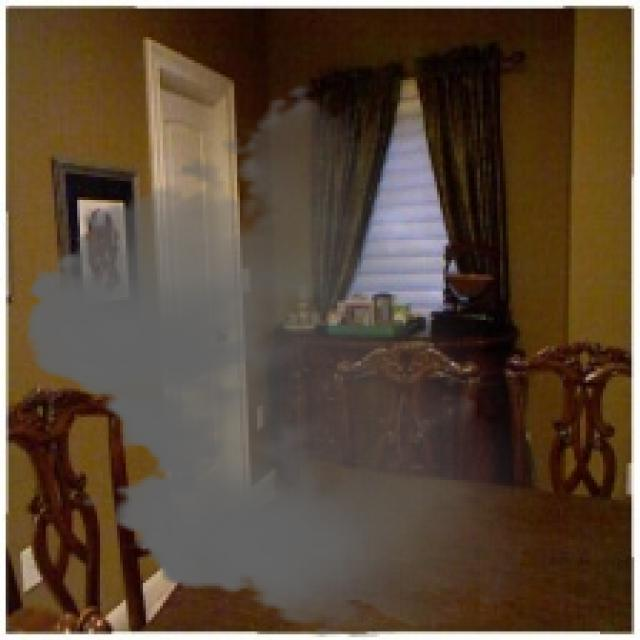smoke: (6, 83, 563, 637)
